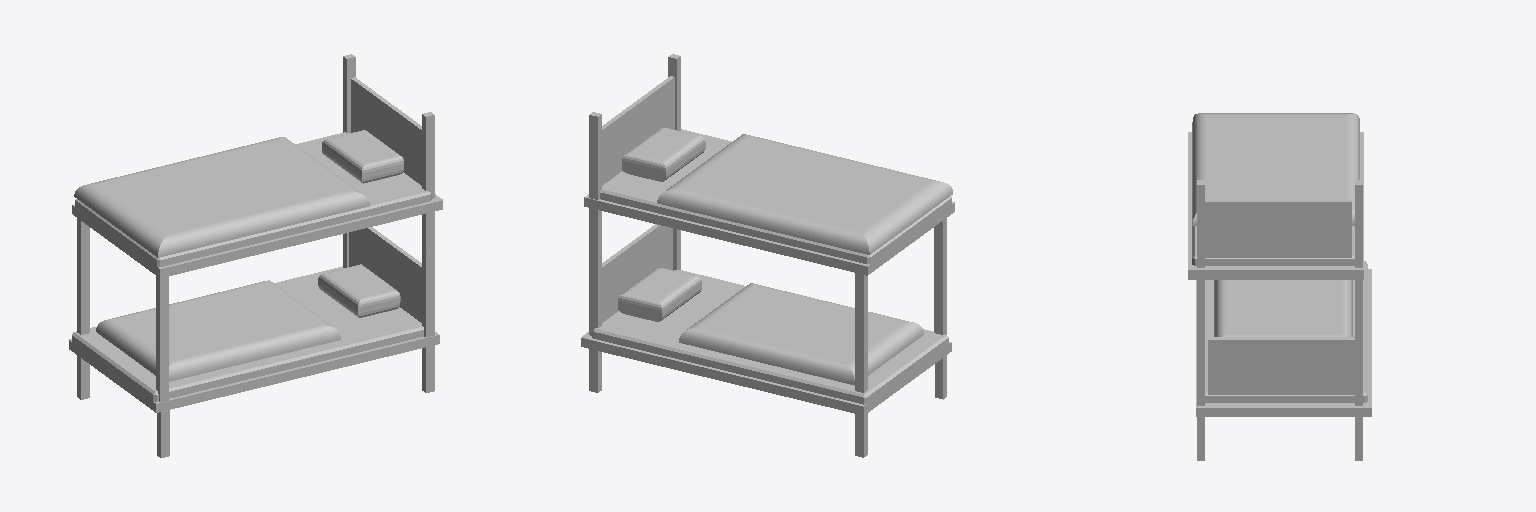
The model's file is hochbett.obj.
The picture shows the model from 3 angles: view 1: azimuth 30°, elevation 25°; view 2: azimuth 150°, elevation 25°; view 3: azimuth 270°, elevation 25°; orthographic projection.
Visible parts, largest first — view 1: Box017, Box008, Box007, Box016, Box014, Box005, Box015, Box006, Box009, Box018, Box002, Box013 (+4 smaller); view 2: Box017, Box008, Box007, Box016, Box005, Box014, Box015, Box006, Box009, Box018, Box010, Box012 (+4 smaller); view 3: Box017, Box006, Box015, Box008, Box014, Box005, Box007, Box016, Box010, Box011, Box001, Box002.
Boxes of the visible parts, x1,y1,x2,y2 form: Box017: [74, 137, 370, 257]; Box008: [96, 280, 340, 381]; Box007: [72, 266, 423, 401]; Box016: [75, 132, 431, 266]; Box014: [72, 172, 442, 277]; Box005: [69, 313, 439, 412]; Box015: [351, 77, 421, 185]; Box006: [349, 227, 421, 322]; Box009: [318, 264, 400, 317]; Box018: [322, 130, 403, 183]; Box002: [422, 252, 434, 392]; Box013: [156, 276, 168, 402]; Box017: [657, 134, 952, 254]; Box008: [679, 283, 923, 385]; Box007: [592, 270, 948, 404]; Box016: [600, 129, 951, 264]; Box005: [581, 313, 951, 415]; Box014: [584, 172, 954, 275]; Box015: [602, 76, 674, 185]; Box006: [602, 224, 672, 322]; Box009: [618, 268, 701, 321]; Box018: [622, 128, 705, 181]; Box010: [589, 112, 601, 255]; Box012: [855, 273, 867, 392]; Box017: [1192, 113, 1359, 225]; Box006: [1208, 337, 1354, 394]; Box015: [1205, 200, 1351, 257]; Box008: [1214, 280, 1352, 336]; Box014: [1188, 132, 1363, 279]; Box005: [1196, 269, 1371, 416]; Box007: [1205, 261, 1367, 402]; Box016: [1192, 226, 1354, 265]; Box010: [1355, 180, 1362, 323]; Box011: [1197, 180, 1204, 323]; Box001: [1355, 322, 1362, 460]; Box002: [1197, 322, 1204, 460].
Size of the model in its own units: 126 by 117 by 70.48.